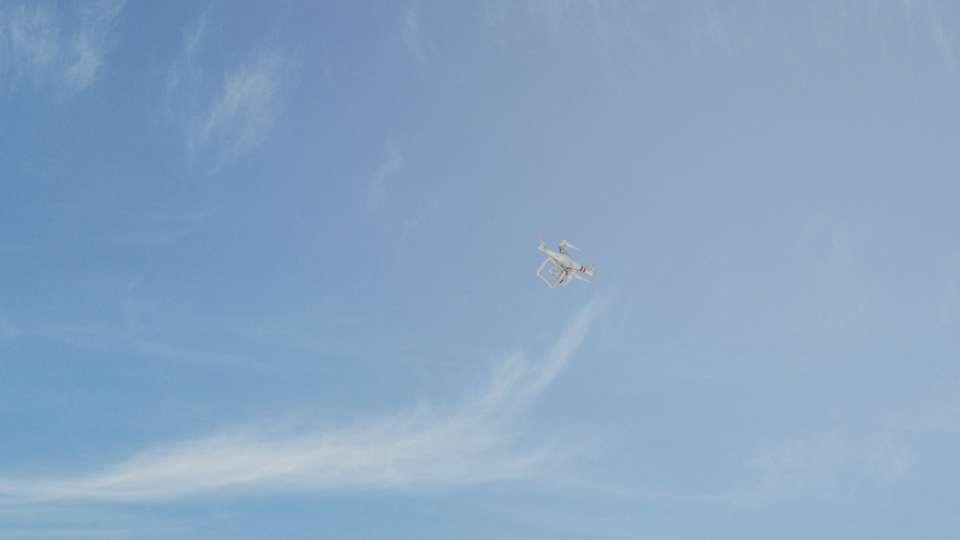drone: (535, 235, 595, 289)
